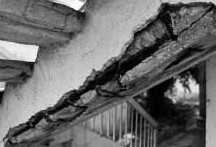Crack: (178, 6, 212, 35)
Exposed reinforcement: (10, 37, 168, 138), (163, 47, 206, 71), (94, 83, 126, 98), (163, 11, 178, 41), (64, 92, 88, 110), (114, 70, 128, 89), (40, 110, 60, 123)
Spalling: (1, 1, 216, 147)
